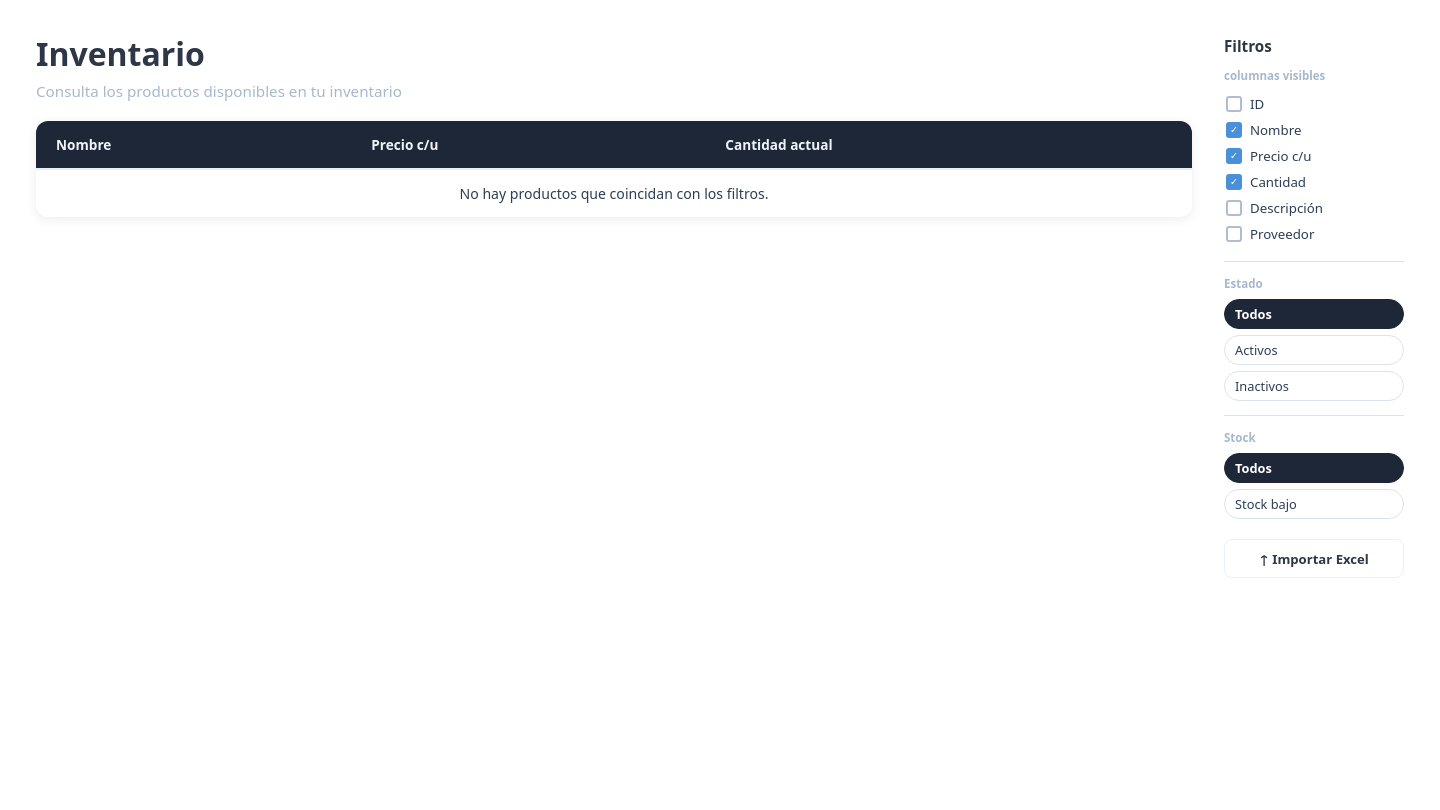
Test: InventoryView › abre el modal de importar excel
Step 1. Click the button with class "btn-import" → (1314,558), box left=1224, top=539, right=1404, bottom=578
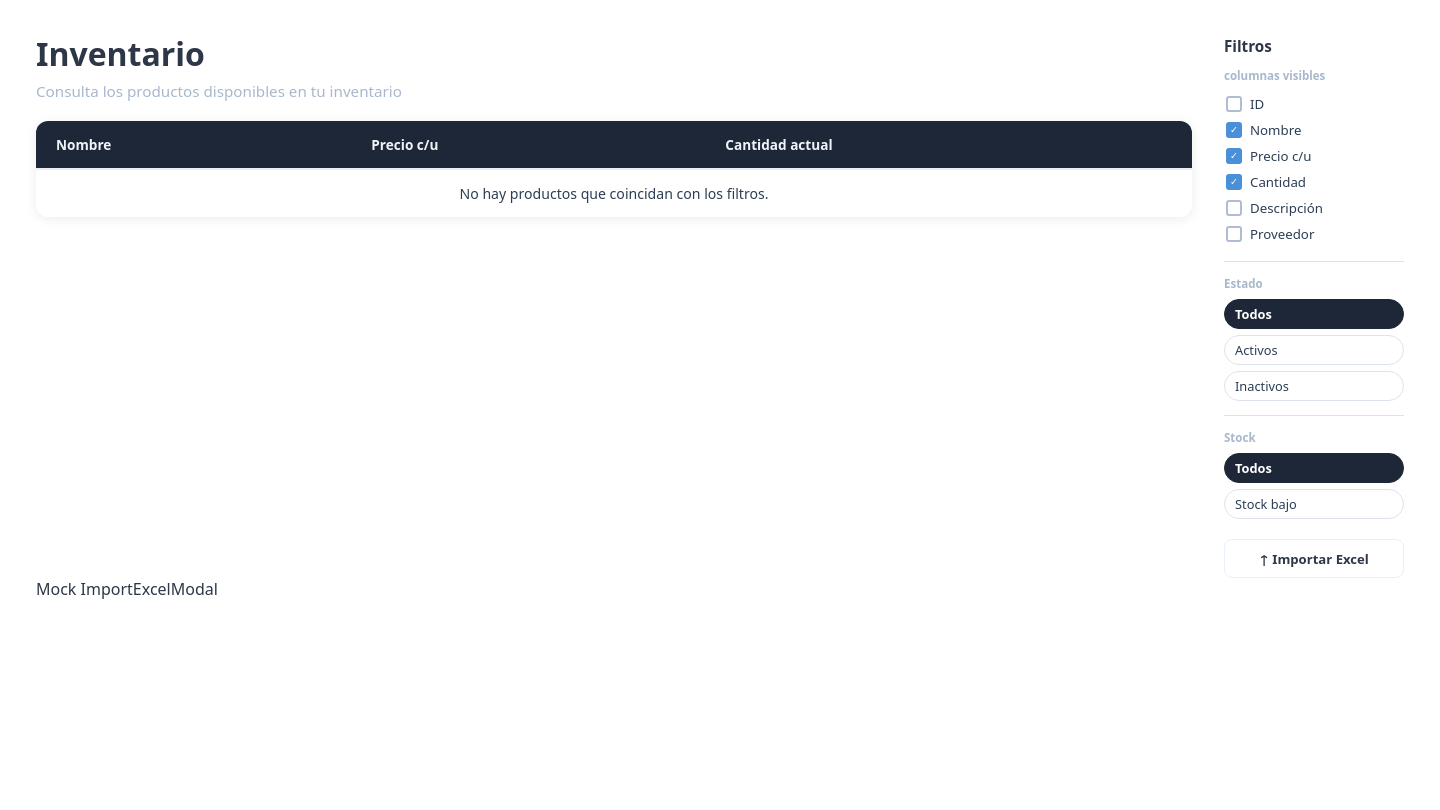
Expected: the text "Mock ImportExcelModal" is shown, left=36, top=578, right=218, bottom=600
